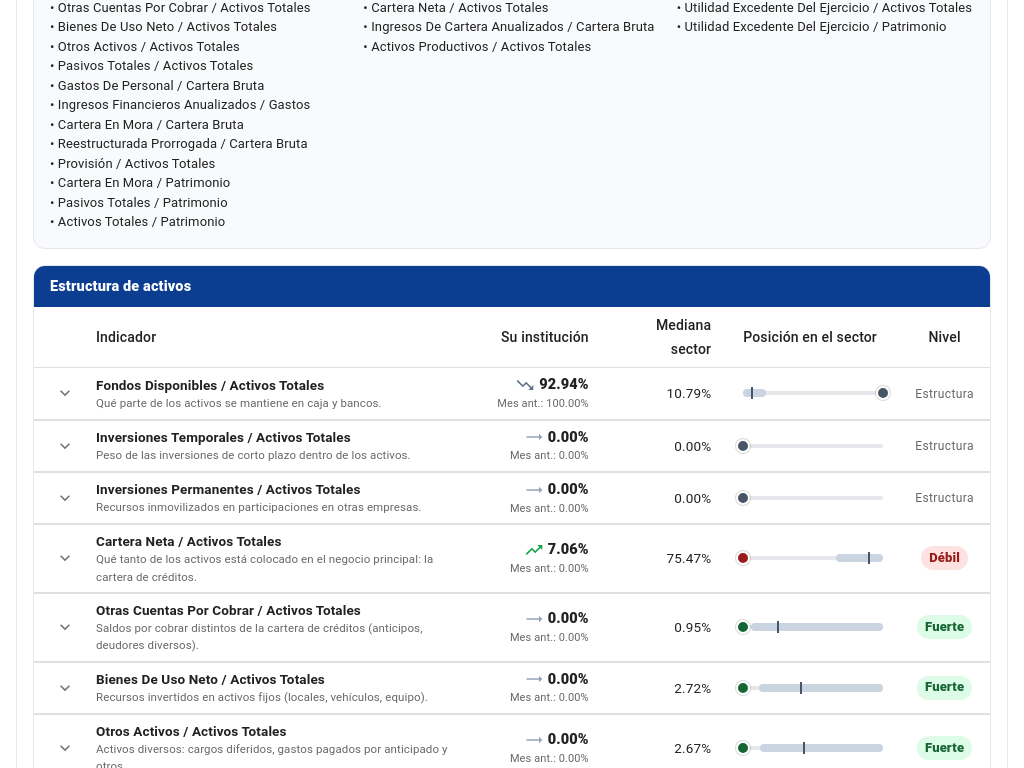
Test case: FinancialIndicators › el detalle muestra los montos de la fórmula, no solo la fórmula
The image size is (1024, 768).
(page scrolled)
Step 1. Click the text "Fondos Disponibles / Activos Totales" → (210, 385), box 96,377 -> 324,393
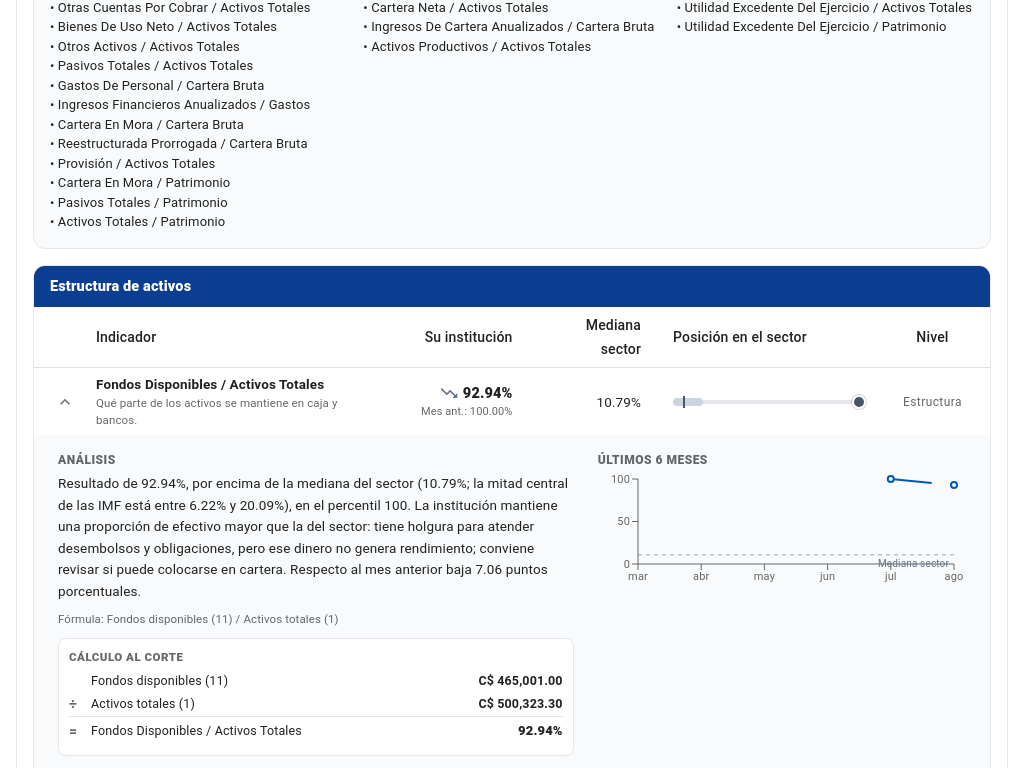
Expected: the text "Fondos disponibles (11)" is shown, 87,670 -> 419,692
Expected: the text "C$ 465,001.00" is shown, 419,670 -> 563,692
Expected: the text "Activos totales (1)" is shown, 87,692 -> 419,716
